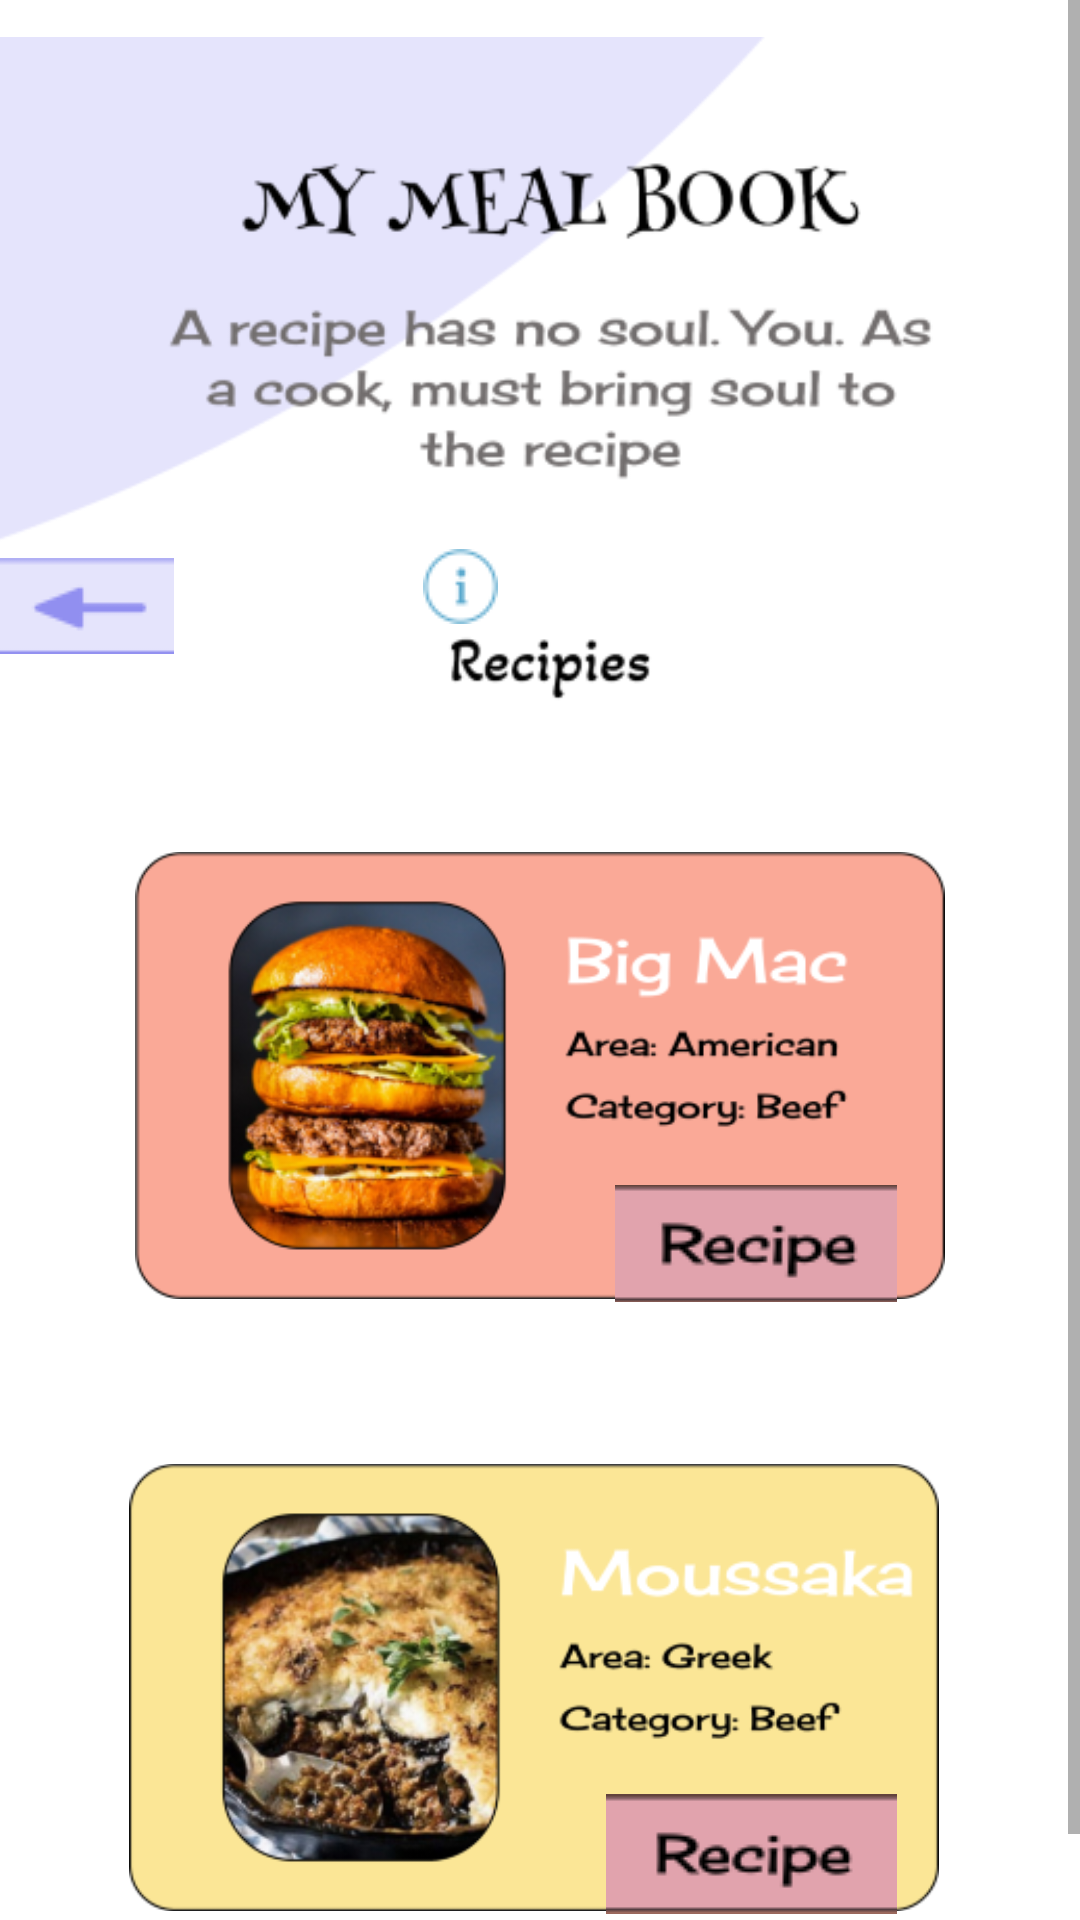

Locate icon controls on the screen. Image size 1080*1920, boxes as [left=x1, top=y1, right=x2, bottom=y2].
arrow: [left=0, top=558, right=174, bottom=654]
info: [left=423, top=549, right=498, bottom=624]
